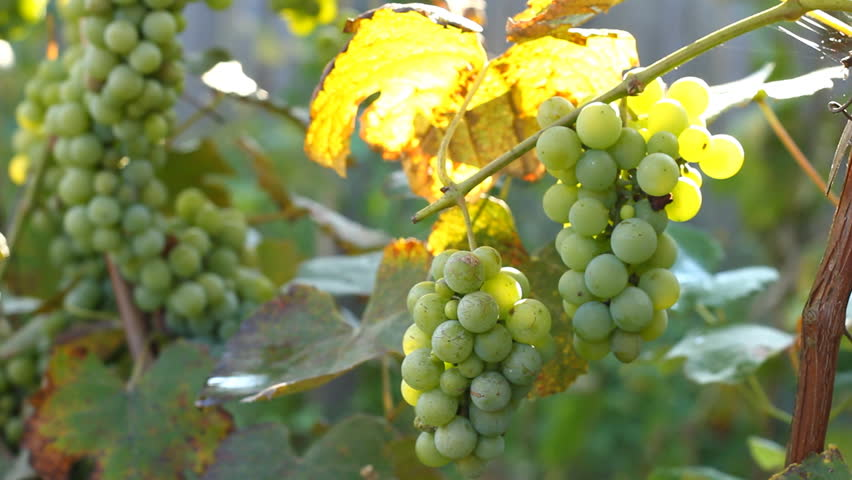grapes: (54, 23, 243, 326), (545, 87, 699, 362), (387, 236, 544, 460)
